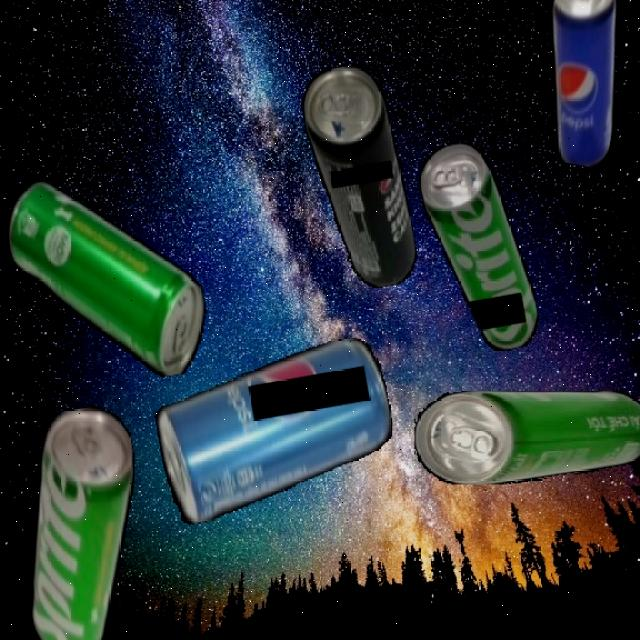debris: (0, 158, 217, 399), (148, 333, 403, 527), (0, 401, 167, 640), (297, 60, 421, 294), (414, 135, 542, 359), (414, 389, 640, 484), (525, 0, 639, 170)
